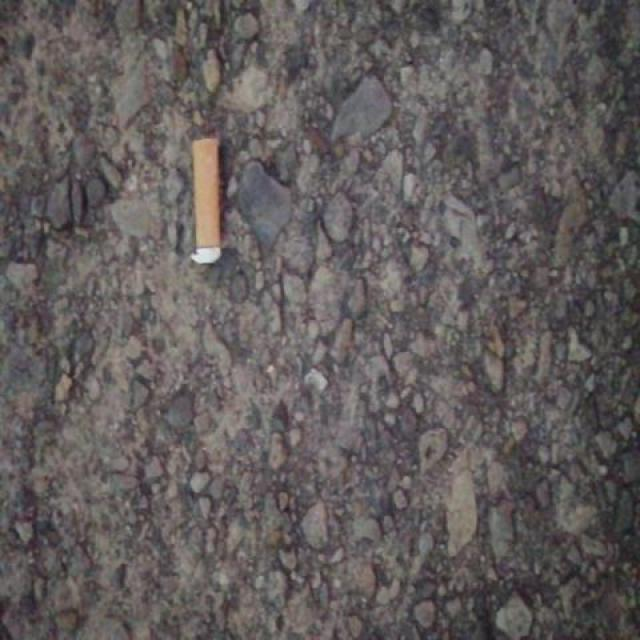non-organic waste: (188, 134, 227, 269)
